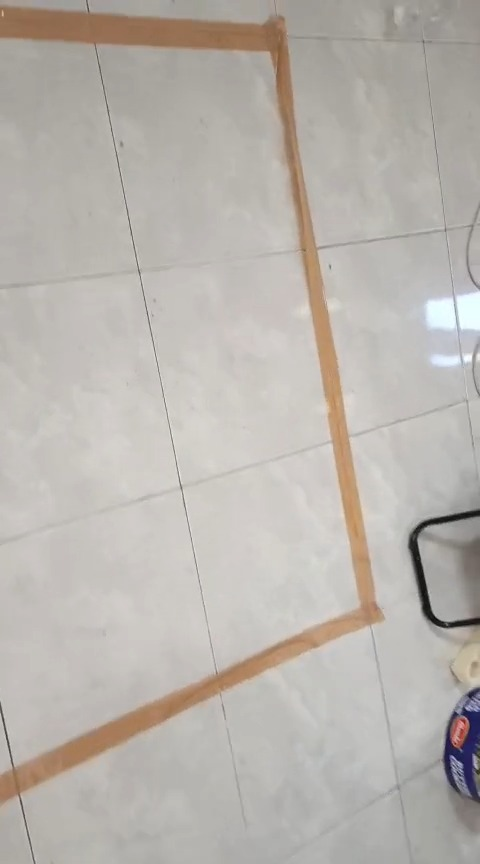floor marking: (0, 4, 383, 802)
